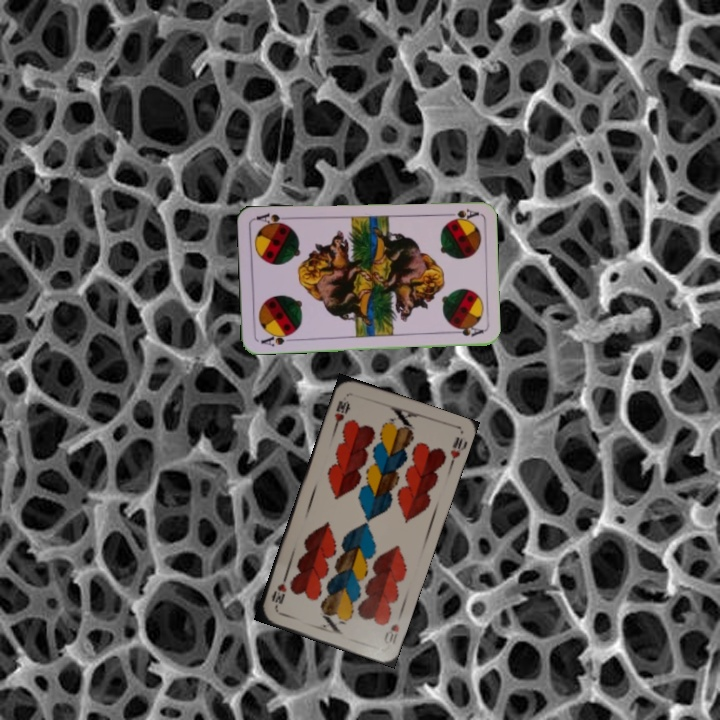H10: (330, 396, 352, 431), (380, 619, 402, 648)
SA: (257, 329, 296, 349), (440, 204, 481, 223)
